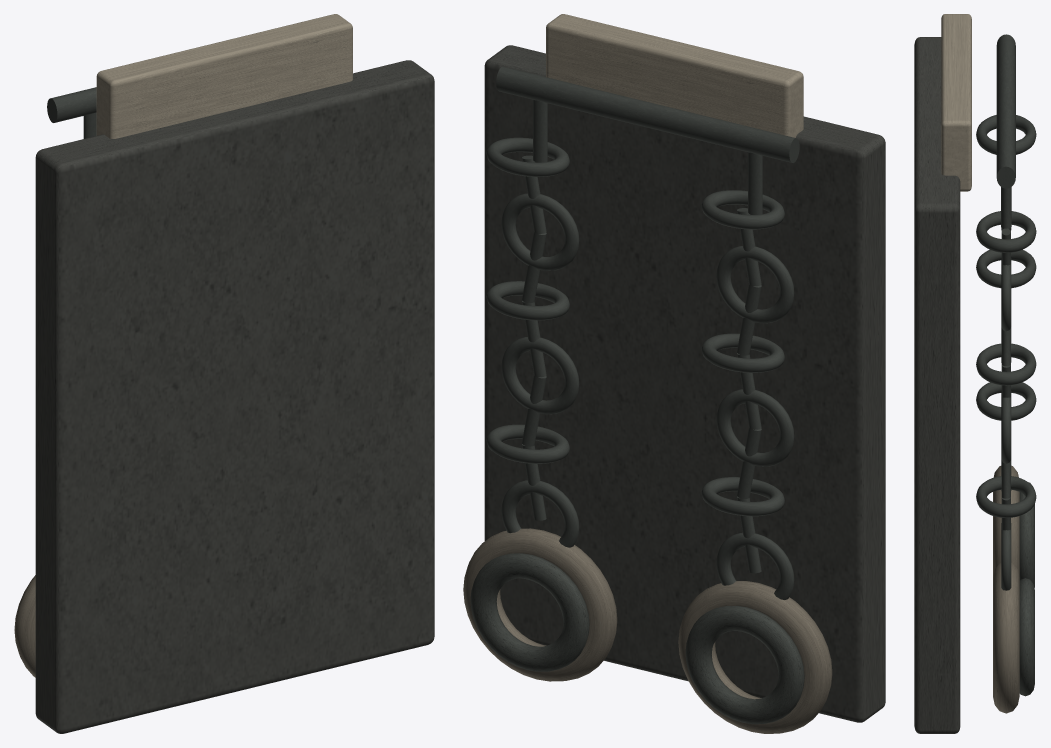
File: wall_chains.glb
The picture shows the model from 3 angles, left to right: view 1: azimuth 30°, elevation 25°; view 2: azimuth 150°, elevation 25°; view 3: azimuth 270°, elevation 25°; orthographic projection. The views are drawn at different scales.
Visible parts, largest first — view 1: wall_chains; view 2: wall_chains; view 3: wall_chains.
Boxes of the visible parts, <box> form: wall_chains: <box>14,14,434,733</box>; wall_chains: <box>463,14,885,733</box>; wall_chains: <box>914,14,1036,733</box>.
Bounding box in the file's own units: 1 × 1.6 × 0.3.
Materials: 1 (1 with a texture image).
